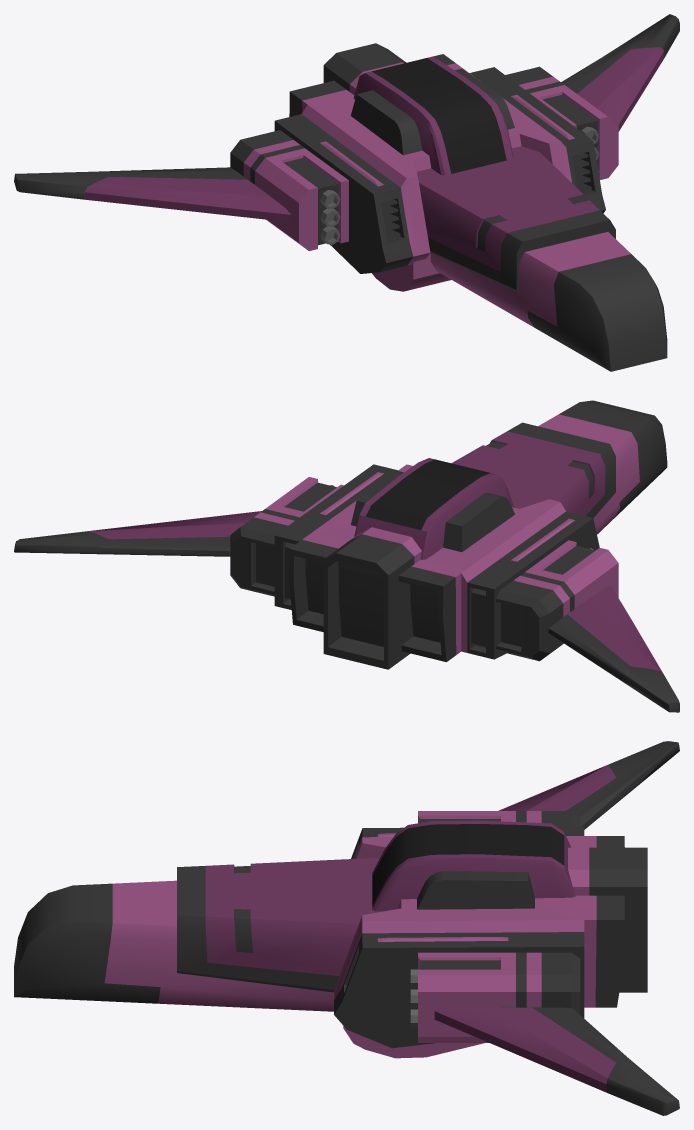
File: ship-flamingo.glb
The picture shows the model from 3 angles, top to bottom: view 1: azimuth 30°, elevation 25°; view 2: azimuth 150°, elevation 25°; view 3: azimuth 270°, elevation 25°; orthographic projection. The views are drawn at different scales.
Parts seen in each view (by area): view 1: Spaceship_FernandoTheFlamingo; view 2: Spaceship_FernandoTheFlamingo; view 3: Spaceship_FernandoTheFlamingo.
Boxes of the visible parts, x1,y1,x2,y2 form: Spaceship_FernandoTheFlamingo: (14,14,679,371); Spaceship_FernandoTheFlamingo: (14,400,679,712); Spaceship_FernandoTheFlamingo: (14,741,679,1115).
Size of the model in its own units: 11.14 by 2.53 by 8.66.
